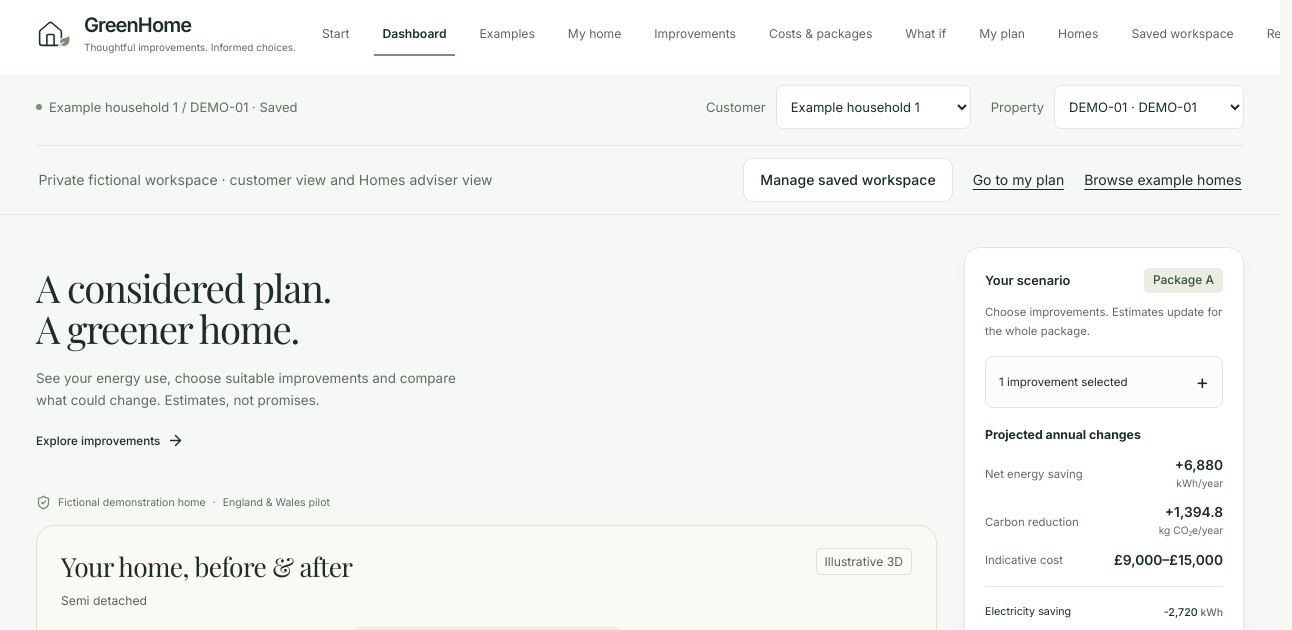
private fictional workspace journey › applies deferrals to calculations immediately and persists all required versioned fields
Expected: the heading "A considered plan.A greener home." is shown, top-left (36, 261), bottom-right (331, 354)
Expected: the dropdown labelled "Customer" is enabled, top-left (776, 85), bottom-right (971, 129)
Step 1. Click the link "Saved workspace" → (1183, 33), box top-left (1131, 26), bottom-right (1234, 40)
(page scrolled)
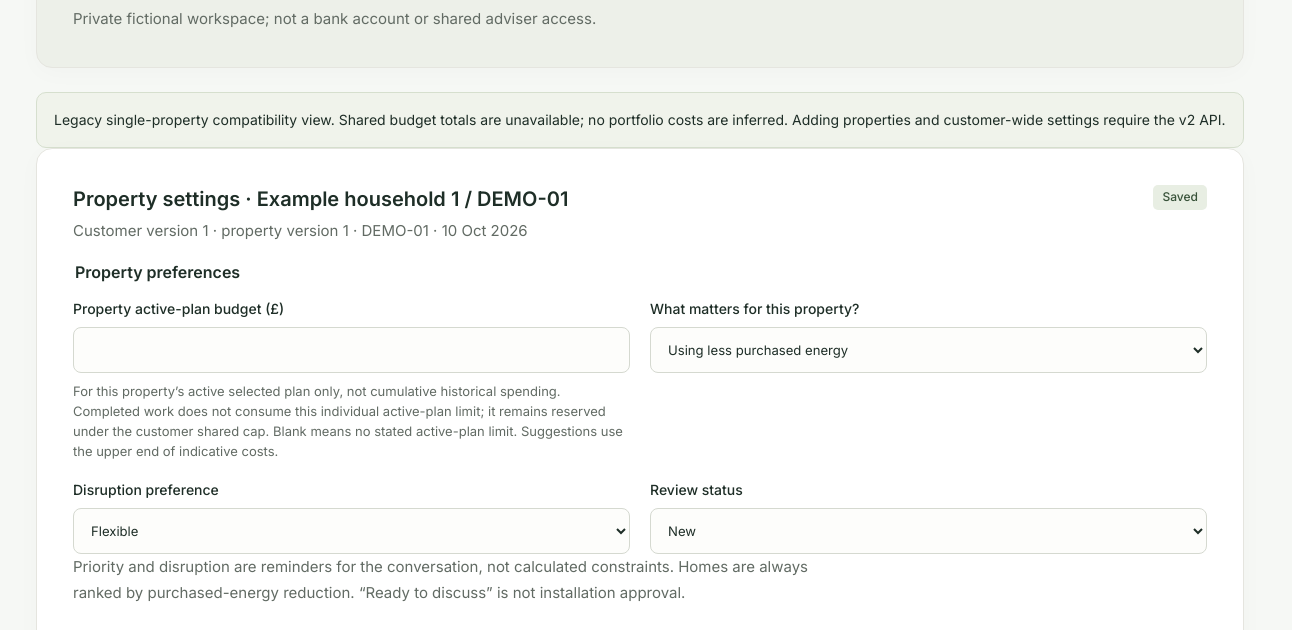
Step 2. Type "5000" into the number field labelled "Property active-plan budget (£)" → (352, 350), box top-left (73, 327), bottom-right (630, 373)
(page scrolled)
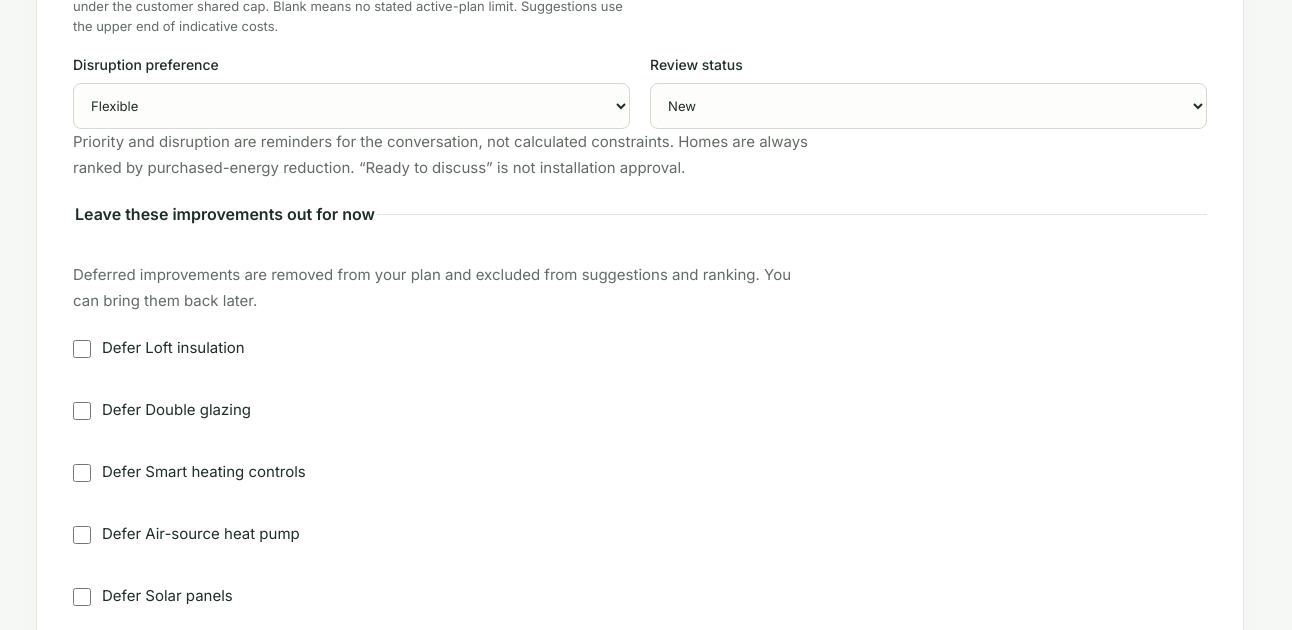
Step 3. Click the checkbox labelled "Defer Loft insulation" → (82, 349), box top-left (73, 340), bottom-right (91, 358)
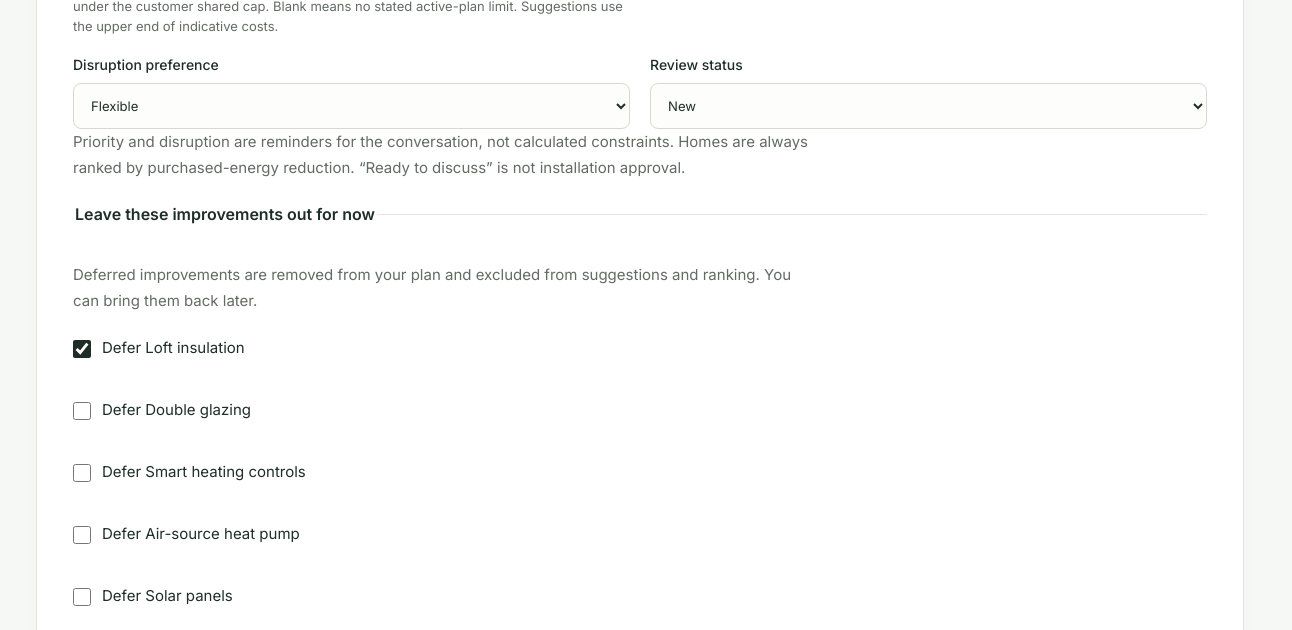
Step 4. Select "In review" in the dropdown labelled "Review status" → (928, 106), box top-left (650, 83), bottom-right (1207, 129)
(page scrolled)
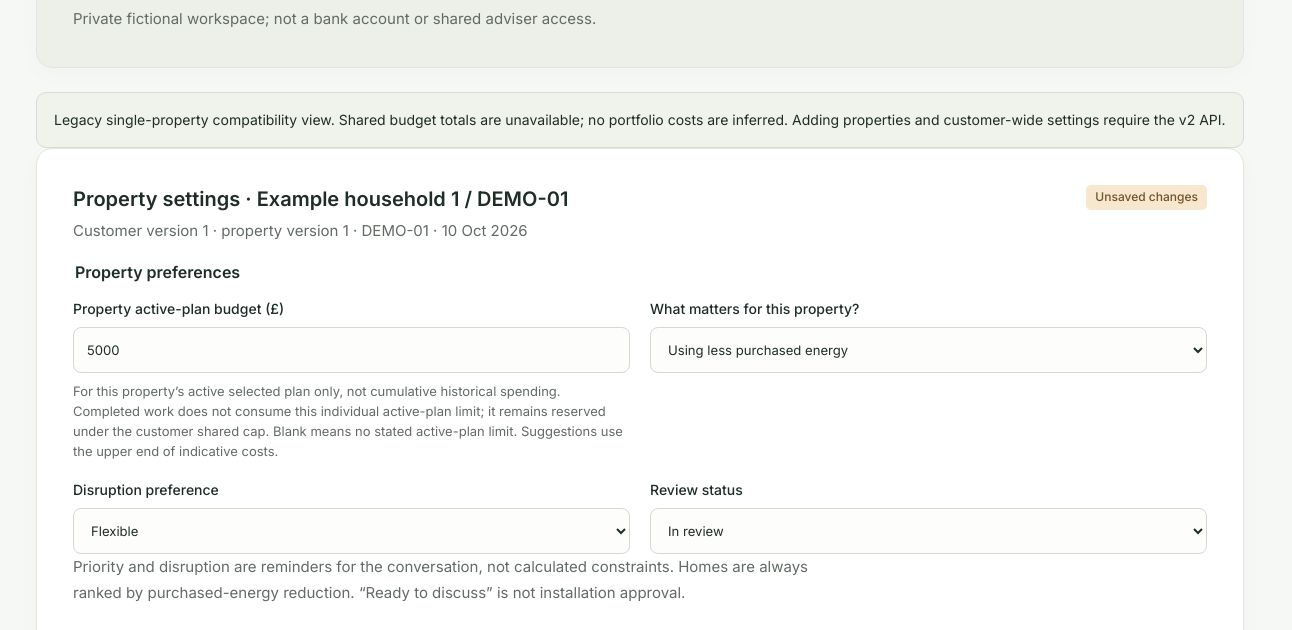
Step 5. Select "Reducing carbon" in the dropdown labelled "What matters for this property?" → (928, 350), box top-left (650, 327), bottom-right (1207, 373)
(page scrolled)
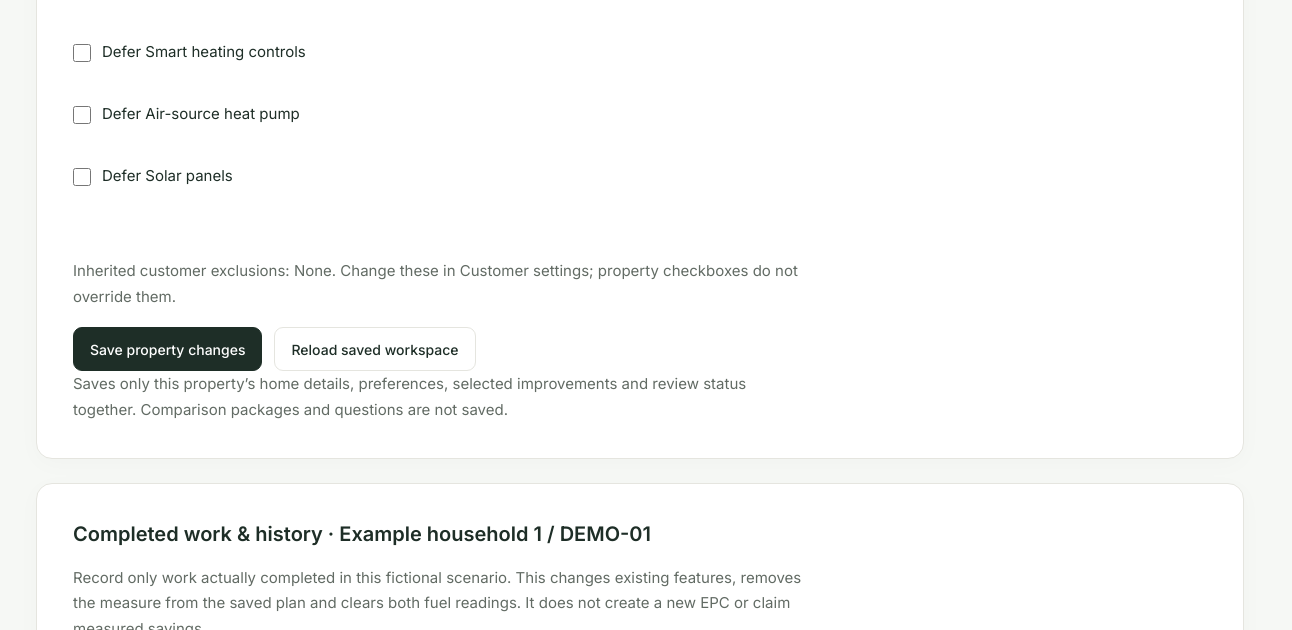
Step 6. Click the button "Save property changes" → (168, 349), box top-left (73, 327), bottom-right (262, 371)
(page scrolled)
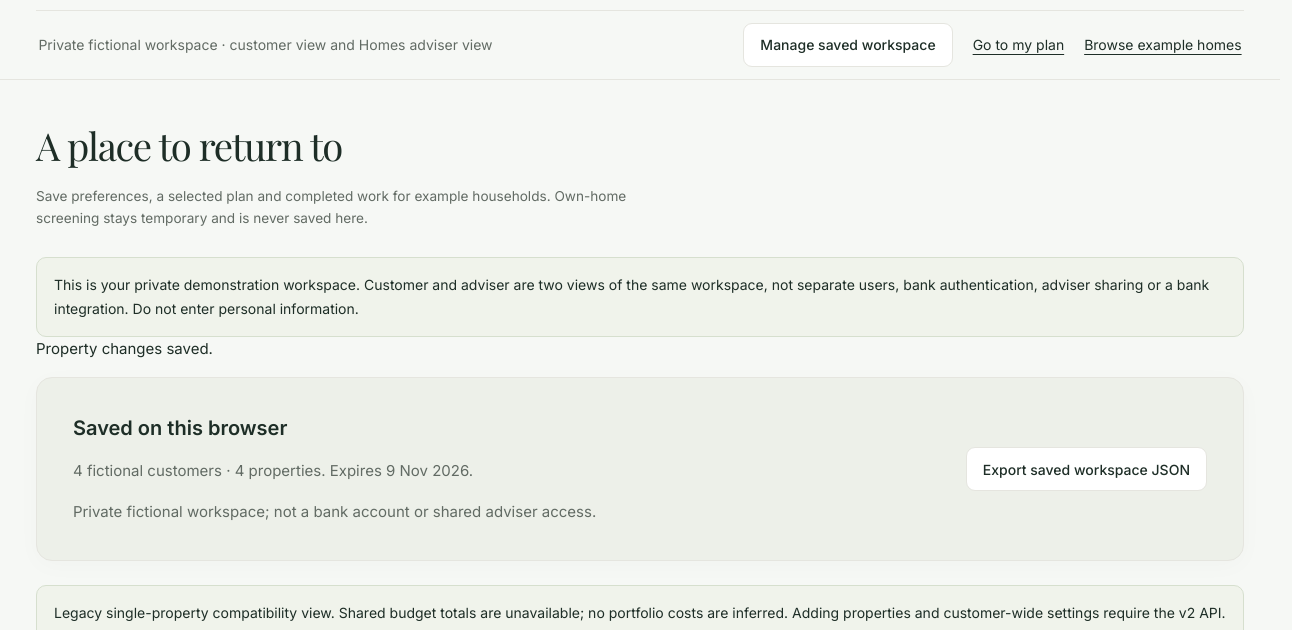
Expected: the text "Property changes saved." is shown, top-left (36, 339), bottom-right (213, 358)
